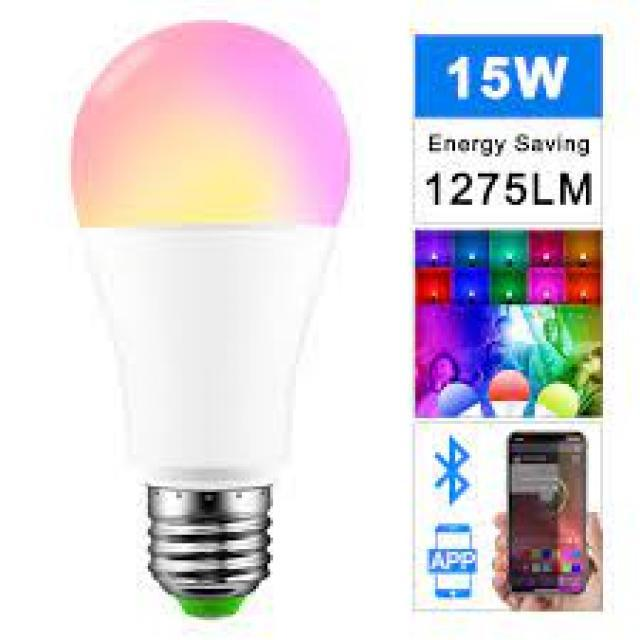light_bulb: (48, 12, 368, 626)
